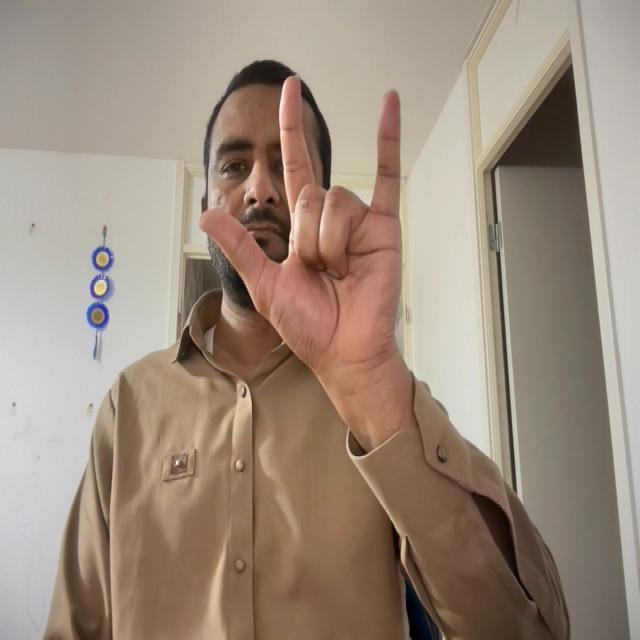IloveYou: (196, 65, 449, 378)
